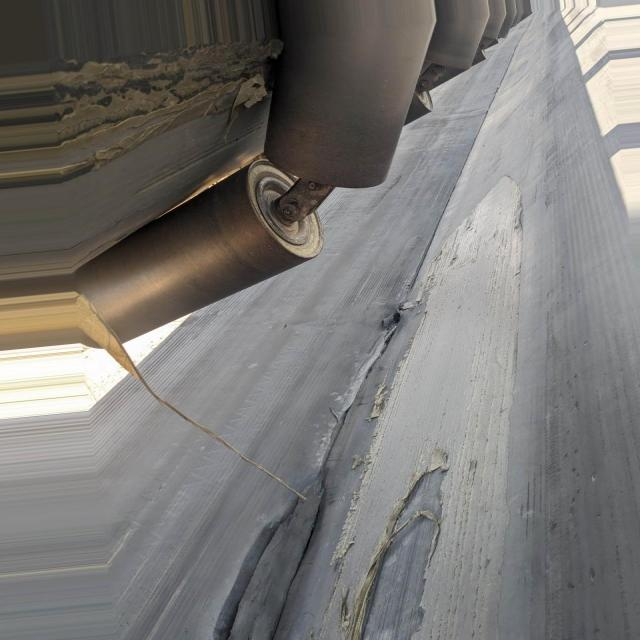Roller: (77, 0, 532, 337)
Tear: (216, 307, 410, 640), (335, 458, 451, 640)
